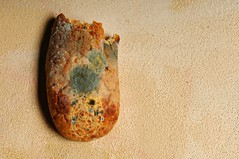mold_bread: (70, 65, 99, 93), (103, 40, 125, 59), (87, 52, 105, 70), (57, 19, 73, 35), (89, 110, 105, 120), (68, 112, 79, 126), (69, 98, 79, 107), (87, 98, 96, 106)
